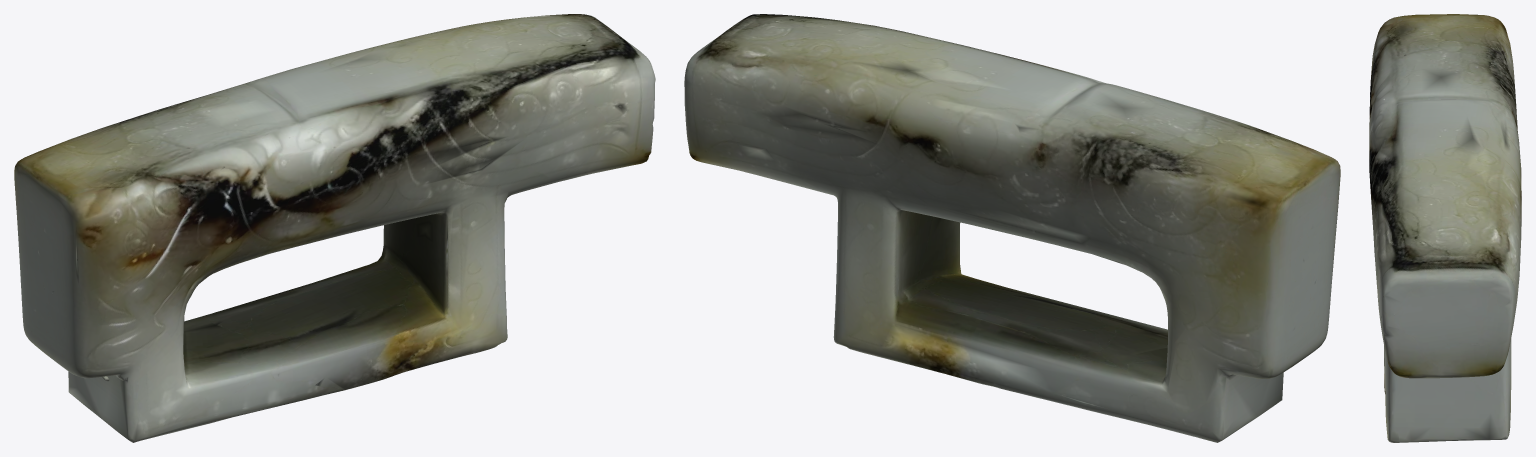
File: dragon-phoenix-zhi-roaming.glb
3 renders of one model, left to right at view 1: azimuth 30°, elevation 25°; view 2: azimuth 150°, elevation 25°; view 3: azimuth 270°, elevation 25°, orthographic. The views are drawn at different scales.
Parts seen in each view (by area): view 1: node_0; view 2: node_0; view 3: node_0.
Boxes of the visible parts, box(x1,y1,x2,y2) form: node_0: box(14, 14, 655, 442); node_0: box(684, 14, 1340, 442); node_0: box(1369, 14, 1521, 442).
Bounding box in the file's own units: 1.11 × 0.5232 × 0.2701.
Materials: 1 (1 with a texture image).
